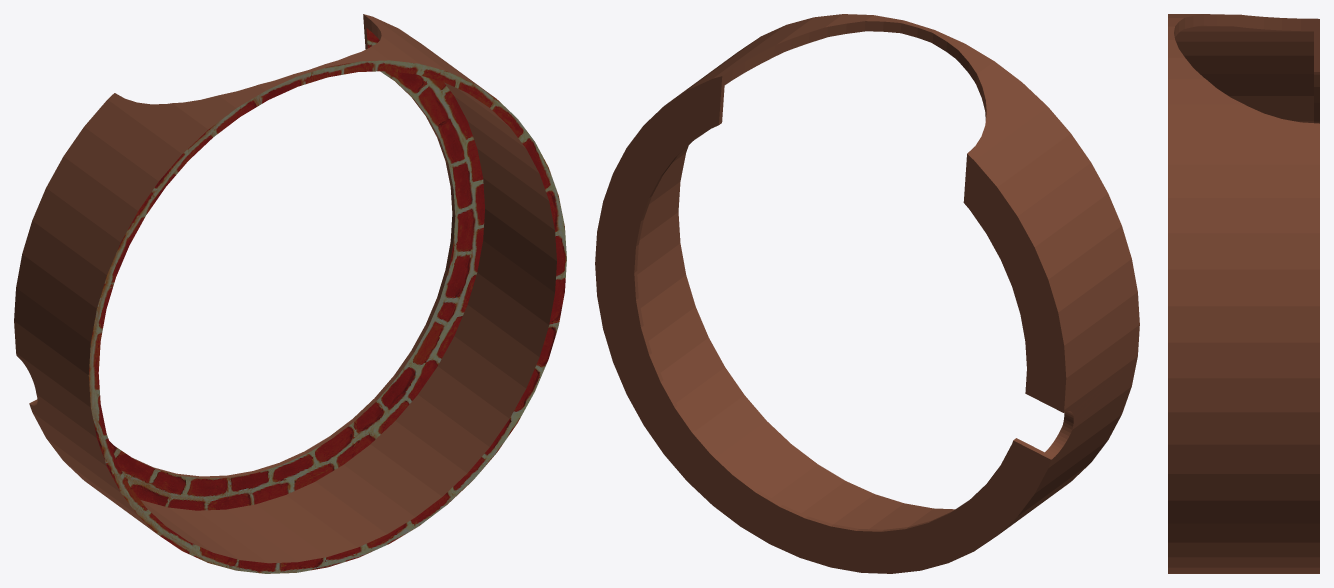
The model's file is pool_005.obj.
3 renders of one model, left to right at view 1: azimuth 30°, elevation 25°; view 2: azimuth 150°, elevation 25°; view 3: azimuth 270°, elevation 25°, orthographic. The views are drawn at different scales.
Size of the model in its own units: 48 by 48 by 13.
Materials: 1 (1 with a texture image).
